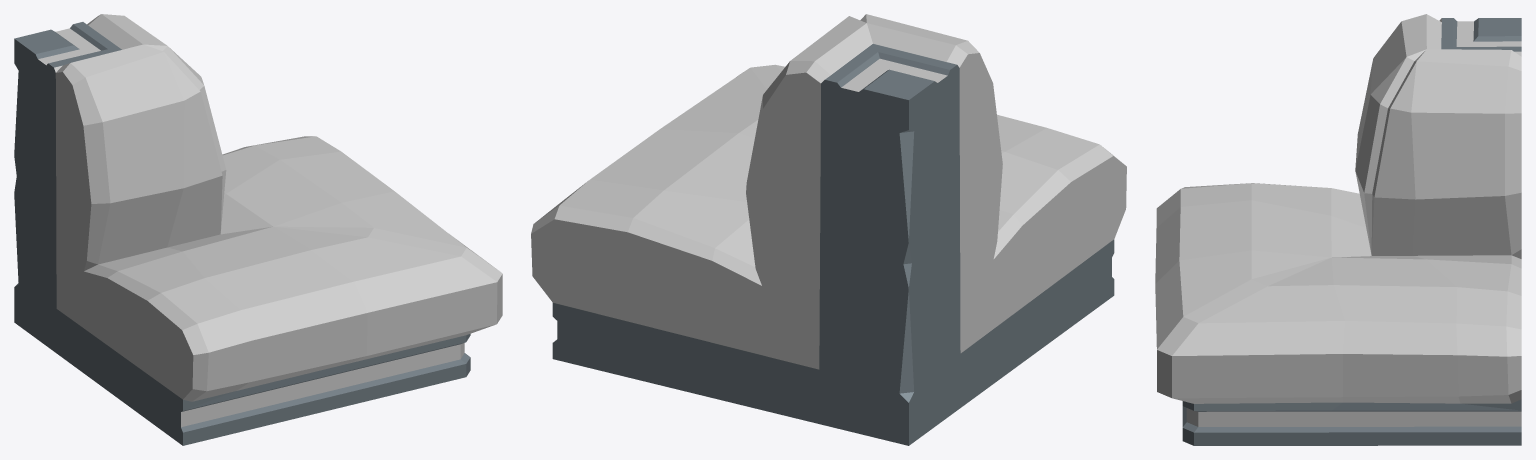
File: SM_Prop_Sofa_02_Corner_06.fbx
3 renders of one model, left to right at view 1: azimuth 30°, elevation 25°; view 2: azimuth 150°, elevation 25°; view 3: azimuth 270°, elevation 25°, orthographic. The views are drawn at different scales.
Visible parts, largest first — view 1: SM_Prop_Sofa_02_Corner_06; view 2: SM_Prop_Sofa_02_Corner_06; view 3: SM_Prop_Sofa_02_Corner_06.
Part boxes in pixels (x1=…): SM_Prop_Sofa_02_Corner_06: x1=14, y1=14, x2=502, y2=445; SM_Prop_Sofa_02_Corner_06: x1=531, y1=14, x2=1126, y2=445; SM_Prop_Sofa_02_Corner_06: x1=1155, y1=14, x2=1521, y2=445.
Size of the model in its own units: 124 by 110 by 125.
